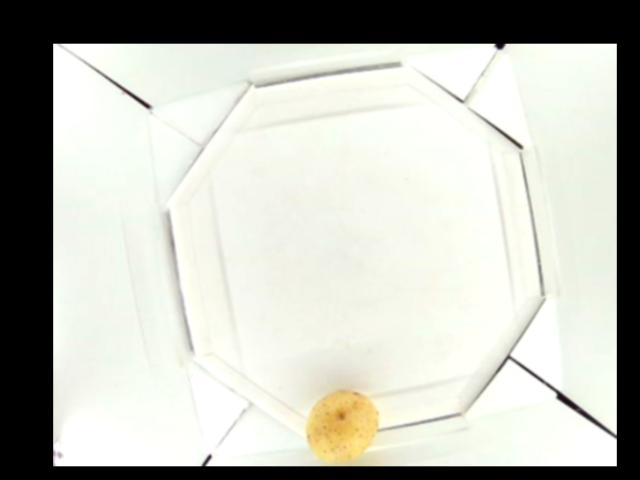Potato: (306, 387, 377, 465)
